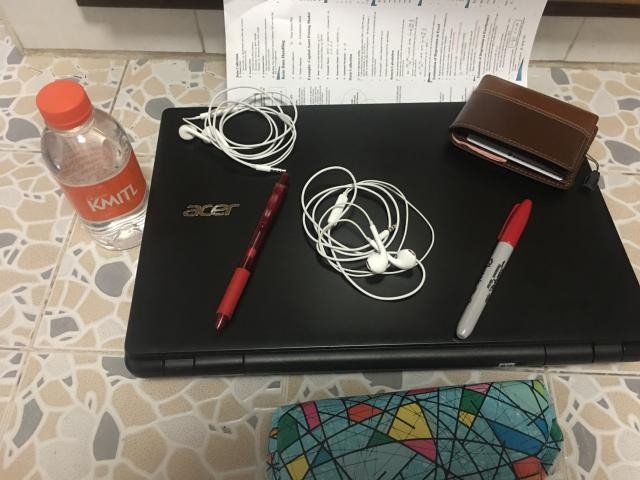Pen: (215, 172, 289, 330), (456, 200, 531, 339)
Wallet: (448, 75, 599, 189)
bottle: (36, 80, 149, 250)
paper: (224, 0, 548, 106)
wire: (301, 166, 435, 301), (179, 86, 298, 172)
